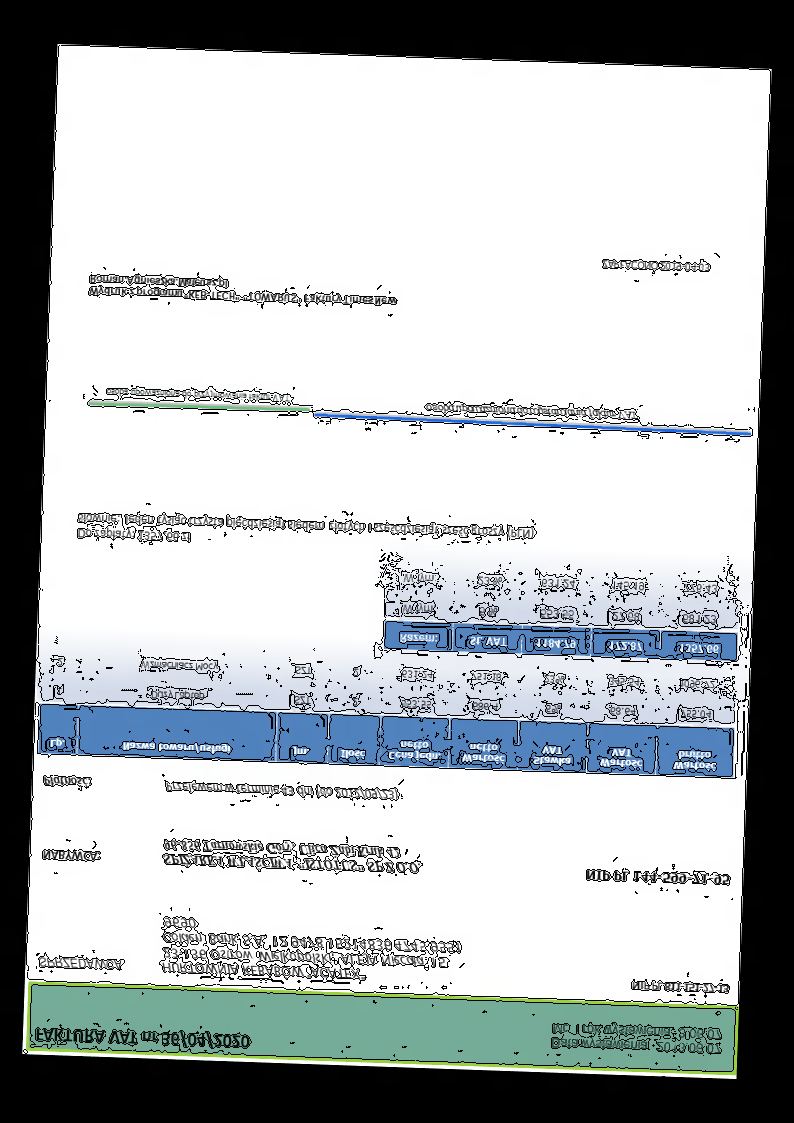Table: (36, 641, 738, 780), (382, 558, 741, 661)
TextBox: (74, 506, 536, 557), (158, 912, 464, 987), (87, 272, 400, 309), (160, 836, 423, 877), (547, 1018, 725, 1057), (33, 1024, 252, 1052), (162, 779, 399, 803), (423, 400, 640, 424), (105, 386, 292, 404), (583, 867, 730, 887), (599, 257, 712, 276), (36, 955, 126, 976), (629, 979, 731, 996), (40, 848, 103, 864), (41, 773, 93, 791)
